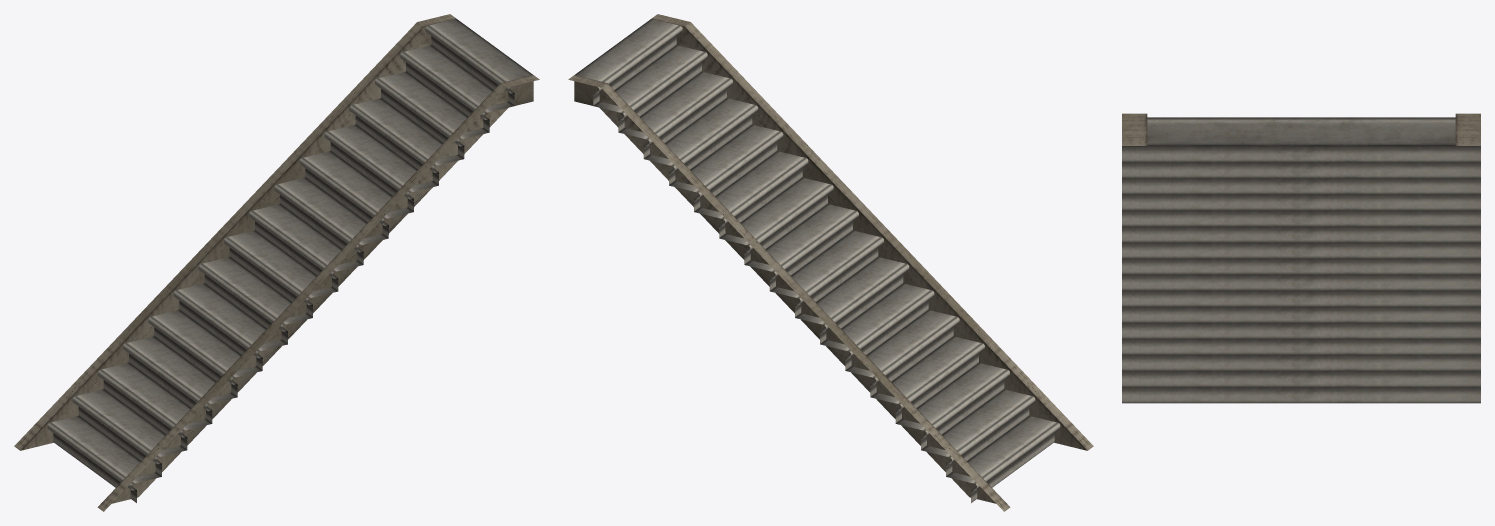
The model's file is stairs_attic_03.DAE.
3 views of the same model, side by side, from view 1: azimuth 30°, elevation 25°; view 2: azimuth 150°, elevation 25°; view 3: azimuth 270°, elevation 25° (orthographic). The views are drawn at different scales.
Visible parts, largest first — view 1: Box007; view 2: Box007; view 3: Box007.
Part boxes in pixels (x1,y1,x2,y2): Box007: (14,14,539,511); Box007: (568,14,1093,511); Box007: (1122,113,1480,403).
Size of the model in its own units: 5.61 by 4.01 by 2.
